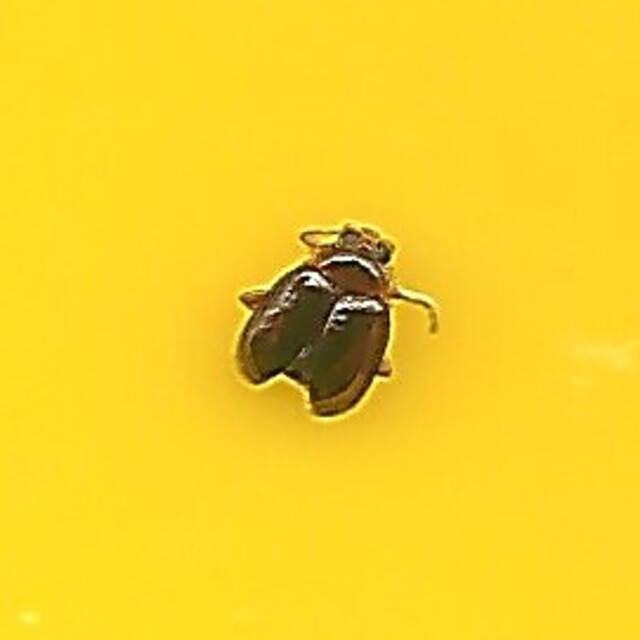Coleoptera: (236, 223, 404, 417)
